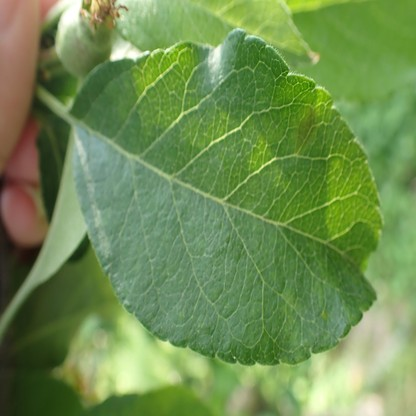scab: (296, 110, 313, 152)
